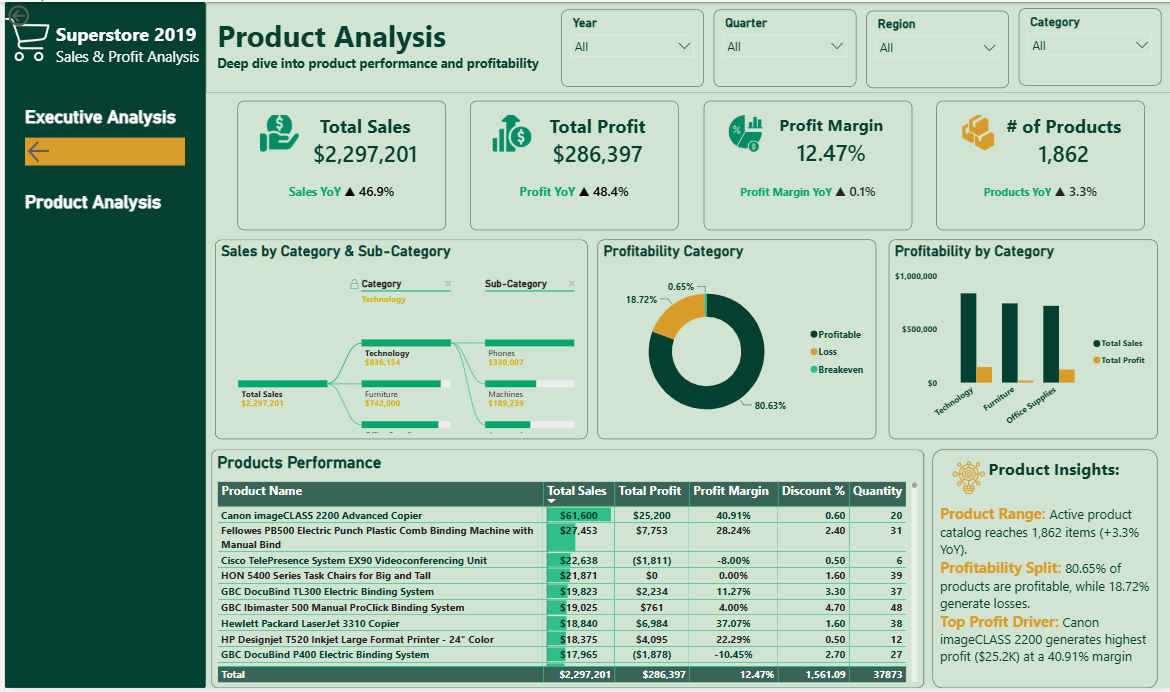

Layout of this report page (visuals, bound fields, positions):
{"tool":"powerbi","page":{"name":"Product Analysis","canvas":[1700,1000],"ordinal":1},"visuals":[{"type":"shape","box":[0,0,292.7,1000.3],"z":0},{"type":"shape","box":[293.4,0,1407,133],"z":1000},{"type":"textbox","box":[304.4,14.6,484.8,98.4],"z":2000},{"type":"textbox","box":[69.4,23.1,234.8,84.3],"z":3000},{"type":"cardVisual","fields":{"Data":["Measures (2).Total Sales"]},"box":[339,144,304,189],"z":4000},{"type":"cardVisual","fields":{"Data":["Measures (2).Total Profit"]},"box":[678.6,144.1,304,189],"z":5000},{"type":"cardVisual","fields":{"Data":["Measures (2).Profit Margin"]},"box":[1018.2,144.3,304,189],"z":6000},{"type":"cardVisual","fields":{"Data":["Measures (2).Total Products"]},"box":[1357.7,144.2,304,189],"z":7000},{"type":"image","box":[0,13.2,64.5,84.3],"z":8000},{"type":"clusteredColumnChart","title":"Profitability by Category","fields":{"Category":["Orders.Category"],"Y":["Measures (2).Total Sales","Measures (2).Total Profit"]},"box":[1288.5,346.3,391.8,291.6],"z":9000},{"type":"donutChart","title":"Profitability Category","fields":{"Category":["Orders.Profitability Category"],"Y":["CountNonNull(Orders.Category)"]},"box":[863.9,346.3,406.4,291.6],"z":10000},{"type":"decompositionTreeVisual","title":"Sales by Category & Sub-Category","fields":{"Analyze":["Measures (2).Total Sales"],"ExplainBy":["Orders.Category","Orders.Sub-Category"]},"box":[306.2,346.3,543.1,291.6],"z":11000},{"type":"tableEx","title":"Products Performance ","fields":{"Values":["Orders.Product Name","Measures (2).Total Sales","Measures (2).Total Profit","Measures (2).Profit Margin","Sum(Orders.Discount)","Sum(Orders.Quantity)"]},"box":[300.7,652.4,1038.8,348.1],"z":12000},{"type":"actionButton","box":[0,0,100,40],"z":13000},{"type":"textbox","box":[1352.3,652.4,328,348.1],"z":14000},{"type":"image","box":[1376,668.8,58.3,49.2],"z":15000},{"type":"slicer","fields":{"Values":["Calender.Quarter"]},"box":[1033.3,11.1,207.8,113],"z":15001},{"type":"slicer","fields":{"Values":["Calender.Year"]},"box":[811,10.1,207.8,113],"z":15002},{"type":"slicer","fields":{"Values":["Orders.Region"]},"box":[1255.7,12.1,207.8,113],"z":15003},{"type":"slicer","fields":{"Values":["Orders.Category"]},"box":[1478,9.1,207.8,113],"z":15004},{"type":"actionButton","title":"Executive Analysis","box":[29.2,151.3,233.3,87.5],"z":15005},{"type":"actionButton","title":"Product Analysis","box":[29.2,275.2,233.3,87.5],"z":15006}]}

Visuals, with their boxes in screenshot pixels (x1, y1, x2, y2), scaled from the page's 1700x1000 canvas onto the 1170x692 screenshot:
shape: 0 0 201 691
shape: 202 0 1169 92
textbox: 209 10 543 78
textbox: 48 16 209 74
cardVisual - Measures (2).Total Sales: 233 100 443 230
cardVisual - Measures (2).Total Profit: 467 100 676 231
cardVisual - Measures (2).Profit Margin: 701 100 910 231
cardVisual - Measures (2).Total Products: 934 100 1144 231
image: 0 9 44 67
"Profitability by Category" clusteredColumnChart: 887 240 1156 441
"Profitability Category" donutChart: 595 240 874 441
"Sales by Category & Sub-Category" decompositionTreeVisual: 211 240 585 441
"Products Performance " tableEx: 207 451 922 691
actionButton: 0 0 69 28
textbox: 931 451 1156 691
image: 947 463 987 497
slicer - Calender.Quarter: 711 8 854 86
slicer - Calender.Year: 558 7 701 85
slicer - Orders.Region: 864 8 1007 87
slicer - Orders.Category: 1017 6 1160 84
"Executive Analysis" actionButton: 20 105 181 165
"Product Analysis" actionButton: 20 190 181 251
